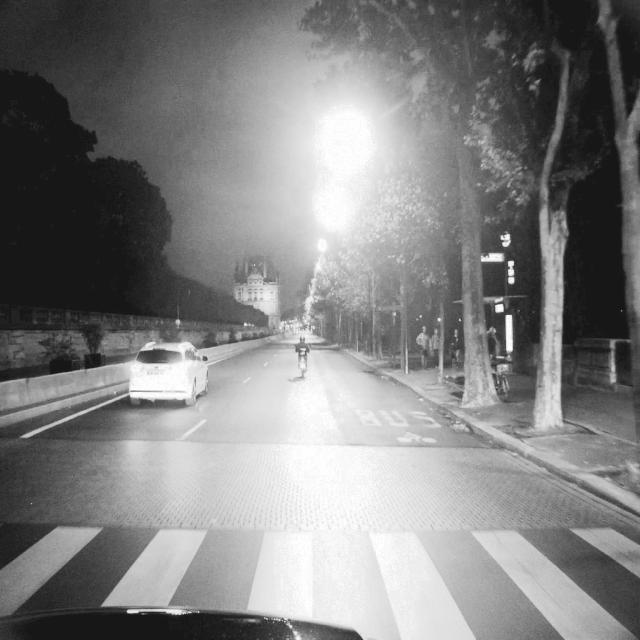Tree: (520, 0, 580, 439), (449, 1, 507, 411), (596, 0, 640, 436)
